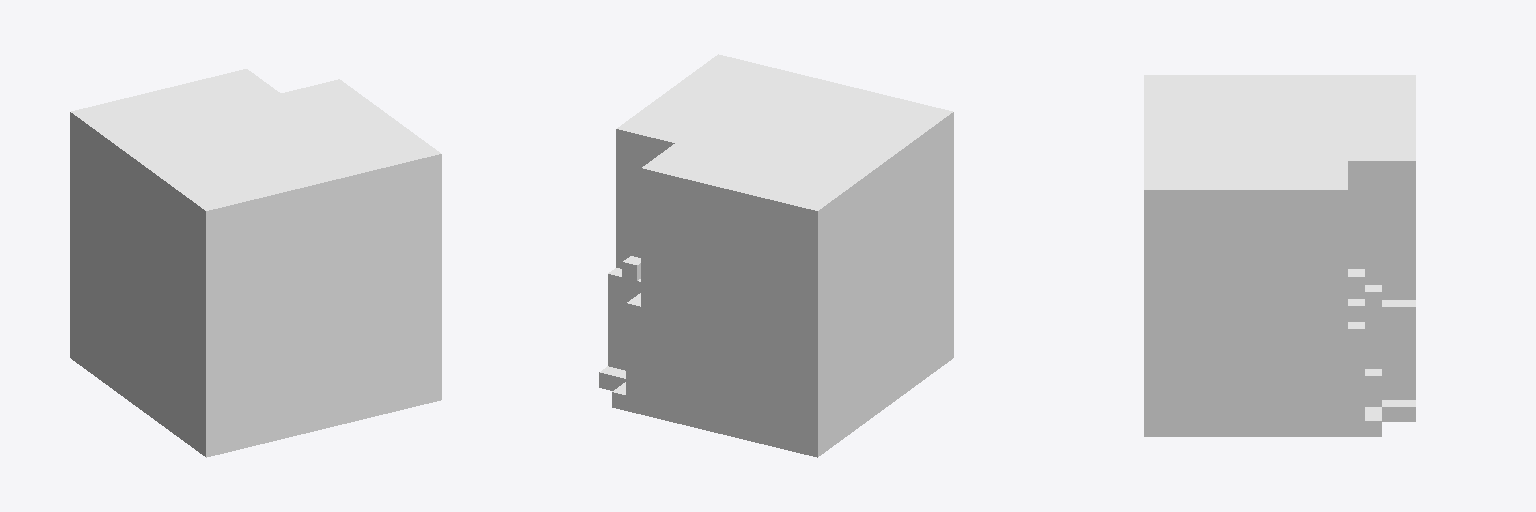
File: stone5.obj
3 renders of one model, left to right at view 1: azimuth 30°, elevation 25°; view 2: azimuth 150°, elevation 25°; view 3: azimuth 270°, elevation 25°, orthographic.
Bounding box in the file's own units: 16 × 16 × 16.